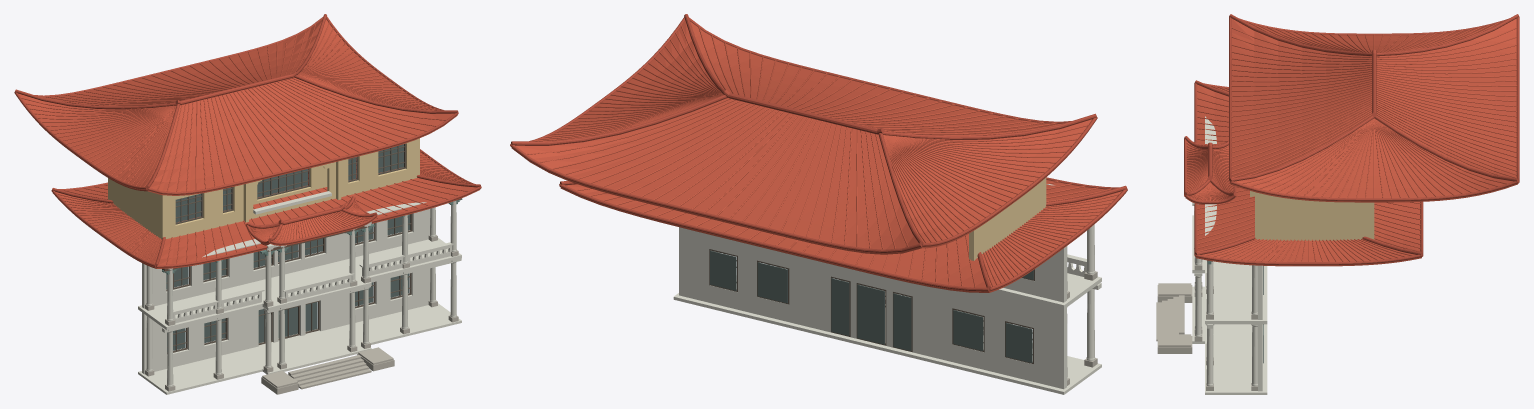
Rendered from full-source.glb.
The picture shows the model from 3 angles, left to right: view 1: azimuth 30°, elevation 25°; view 2: azimuth 150°, elevation 25°; view 3: azimuth 270°, elevation 25°; orthographic projection. The views are drawn at different scales.
Visible parts, largest first — view 1: 新华路200号陈果夫住宅南面重檐外廊; view 2: 新华路200号陈果夫住宅南面重檐外廊; view 3: 新华路200号陈果夫住宅南面重檐外廊.
Boxes of the visible parts, x1,y1,x2,y2 form: 新华路200号陈果夫住宅南面重檐外廊: (14, 14, 481, 394); 新华路200号陈果夫住宅南面重檐外廊: (510, 14, 1127, 394); 新华路200号陈果夫住宅南面重檐外廊: (1156, 14, 1519, 394).
Size of the model in its own units: 24.64 by 16 by 21.79.
